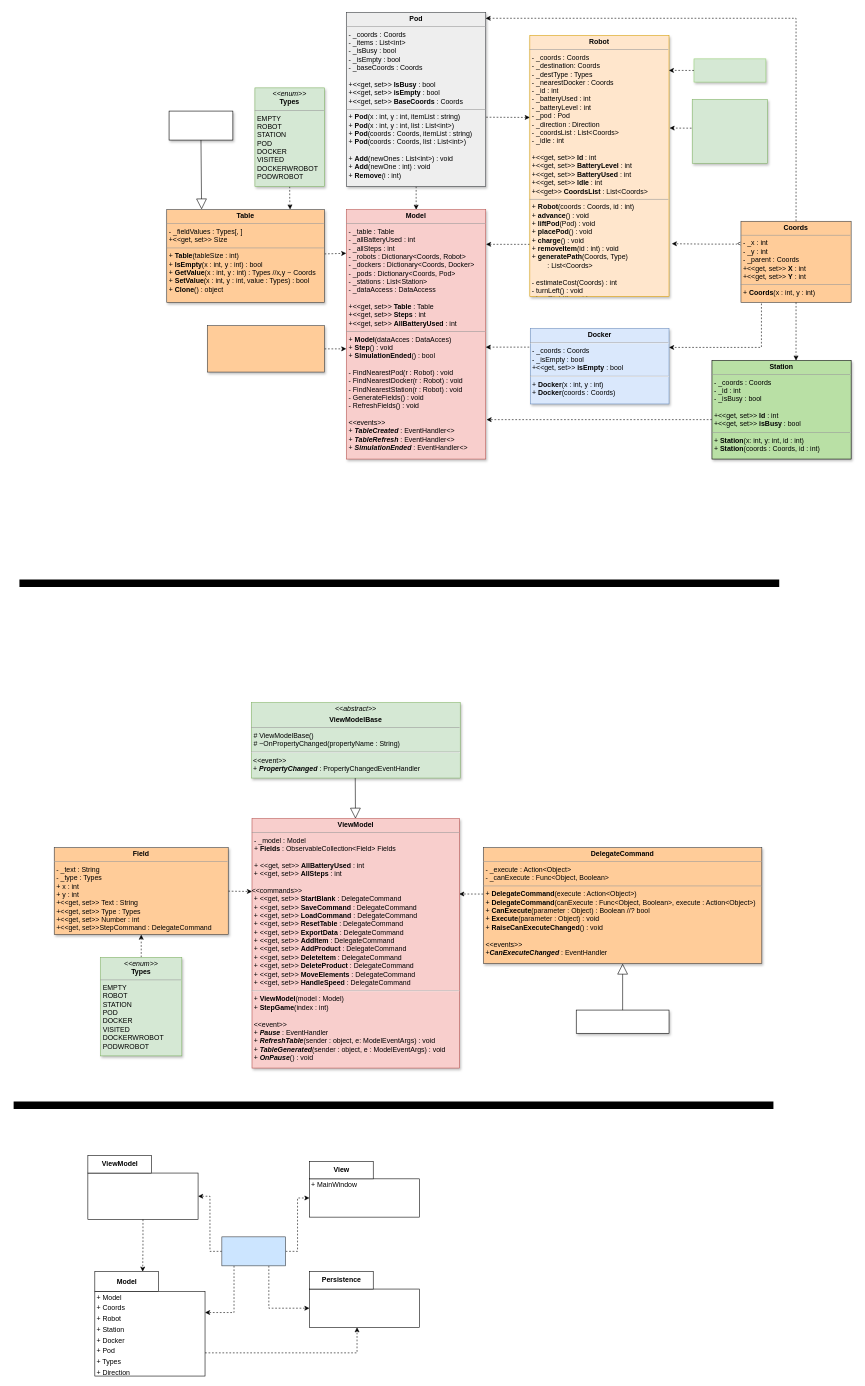
This 865x1386 diagram has some shape labels left out. Each missing label, with the centre of its shape:
+ DelegateCommand + Field + ViewModelBase + ViewModel: [142,1195]
+ Table + DataAccess: [364,1307]
<< enum>> Types: [730,71]
<<enum>> Direction UP RIGHT DOWN LEFT: [730,132]
App: [253,1251]
DataAccess + LoadFile (path : String) : Table + SaveState (path : String) : bool: [266,349]
ICloneable: [201,126]
ICommand: [623,1022]
